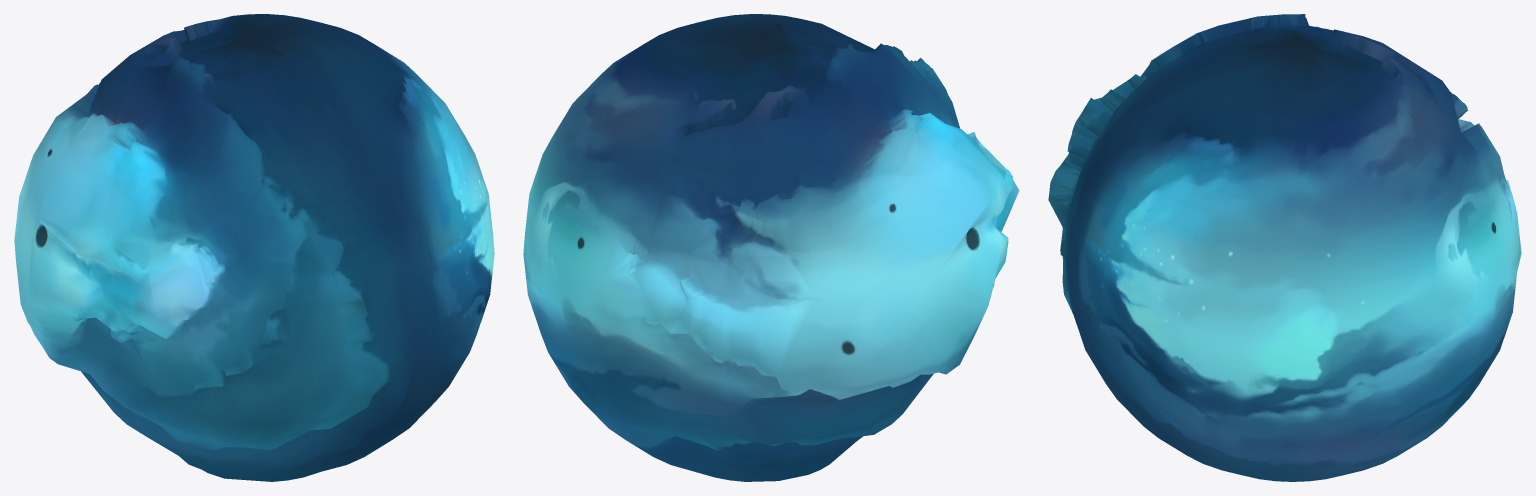
3 renders of one model, left to right at view 1: azimuth 30°, elevation 25°; view 2: azimuth 150°, elevation 25°; view 3: azimuth 270°, elevation 25°, orthographic. The views are drawn at different scales.
Parts seen in each view (by area): view 1: Object001_Material__25__background_JPG_002_0; view 2: Object001_Material__25__background_JPG_002_0; view 3: Object001_Material__25__background_JPG_002_0.
Part boxes in pixels (x1,y1,x2,y2): Object001_Material__25__background_JPG_002_0: (14,14,494,481); Object001_Material__25__background_JPG_002_0: (523,14,1019,481); Object001_Material__25__background_JPG_002_0: (1048,14,1521,481).
Size of the model in its own units: 33.29 by 31.24 by 32.01.
1 material, 1 textured.
